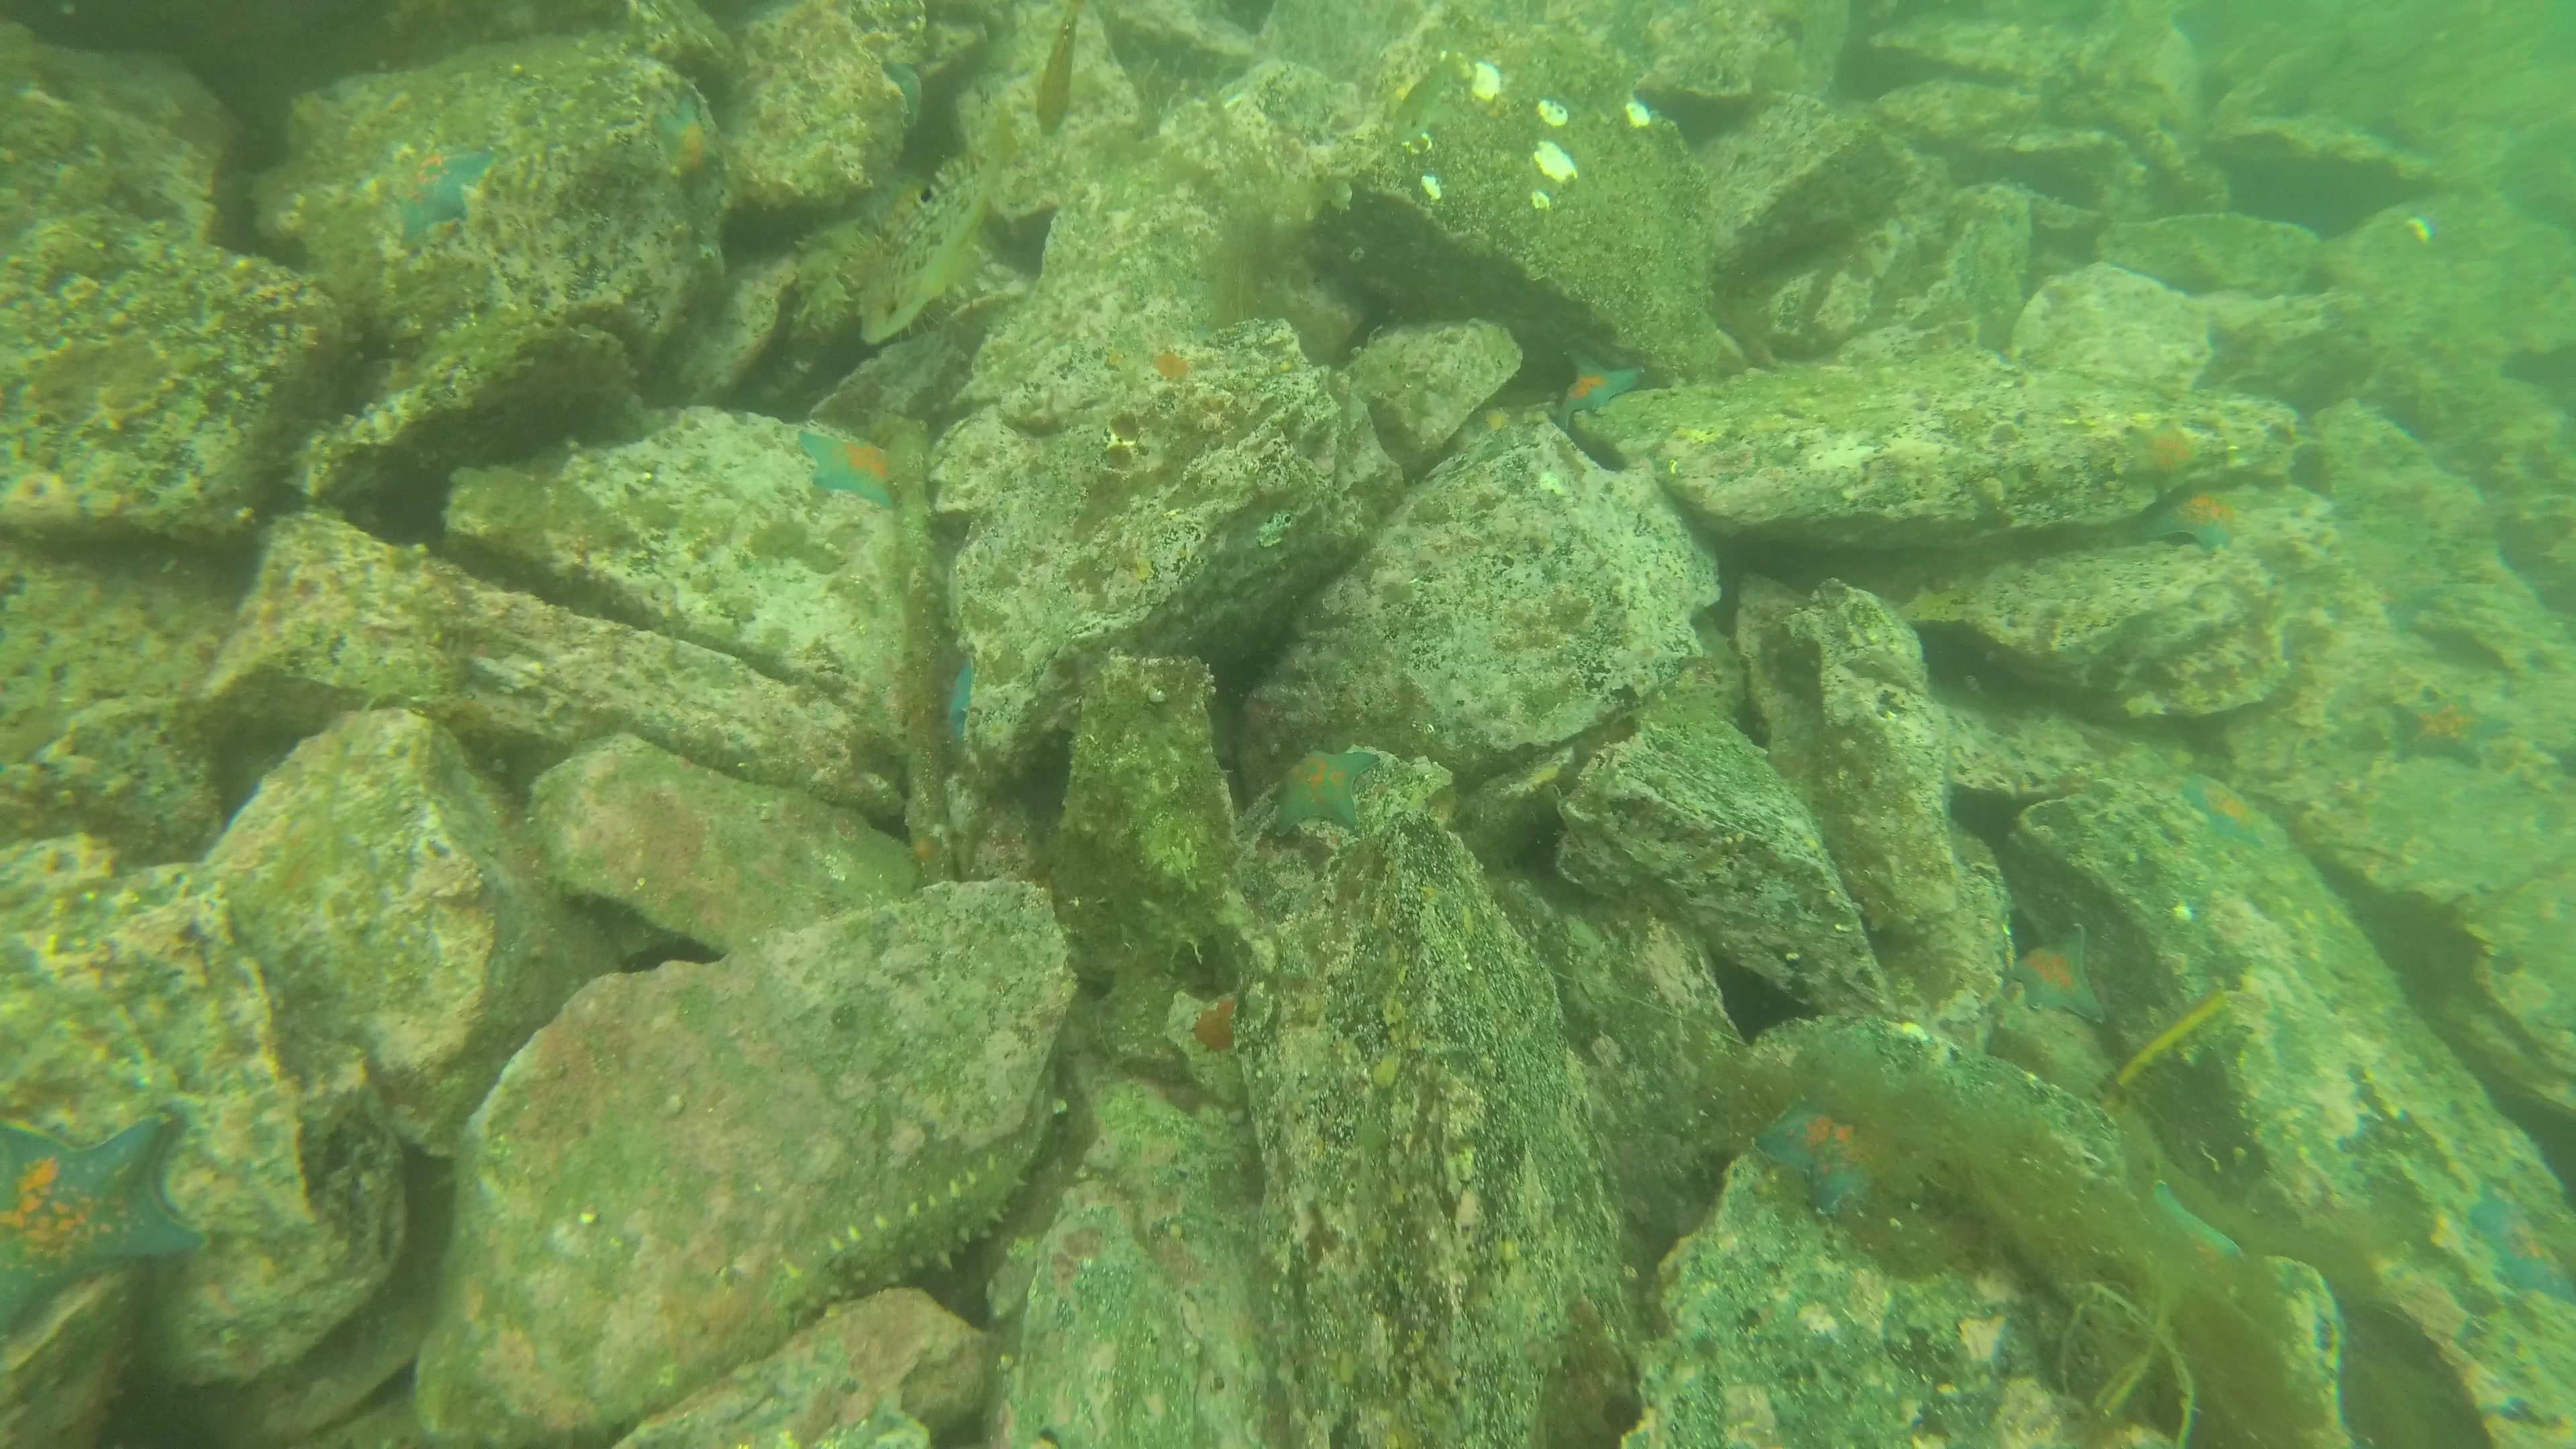echinus: (846, 218, 962, 349)
holothurian: (773, 1152, 1030, 1327), (791, 219, 863, 343)
starfish: (0, 1115, 200, 1336), (1748, 1104, 1907, 1217), (2123, 1175, 2250, 1313), (2470, 1184, 2576, 1311), (2006, 924, 2107, 1026), (1270, 750, 1384, 835), (2390, 694, 2516, 770), (396, 152, 494, 246), (796, 428, 893, 508), (1559, 352, 1644, 435), (651, 97, 722, 195), (2121, 421, 2206, 495), (2180, 775, 2266, 847), (2141, 497, 2245, 554), (2351, 580, 2449, 632), (879, 62, 922, 129), (948, 655, 973, 761)
